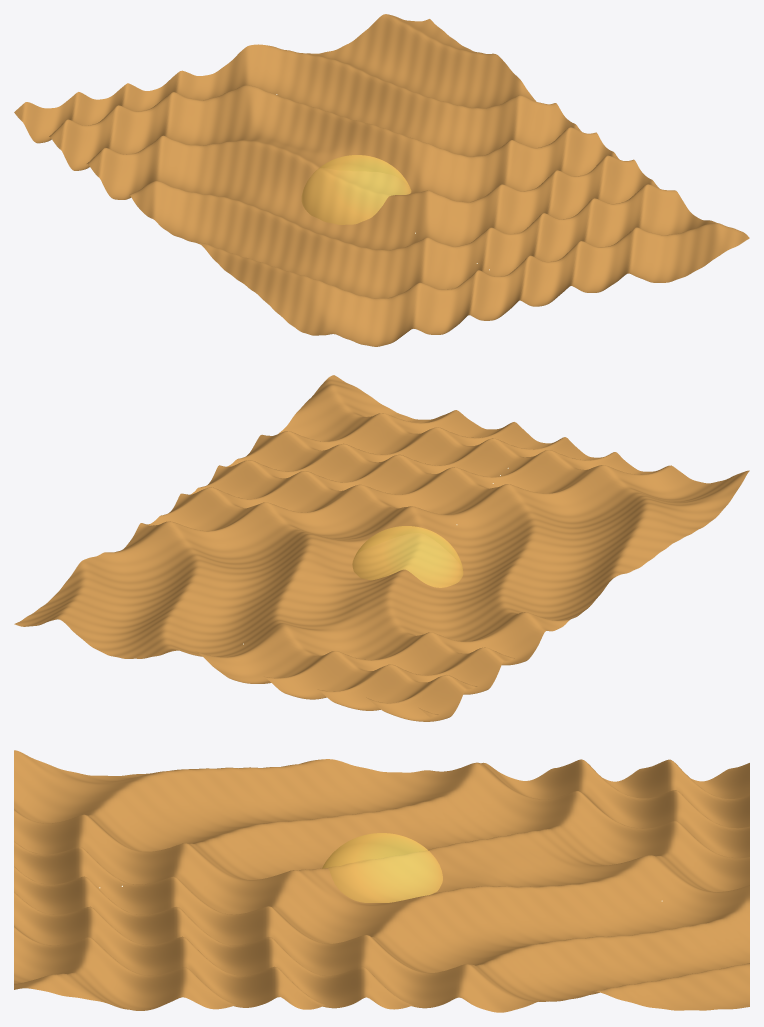
File: houbara_flight_03_karakum_desert.glb
3 views of the same model, one above another, from view 1: azimuth 30°, elevation 25°; view 2: azimuth 150°, elevation 25°; view 3: azimuth 270°, elevation 25° (orthographic). The views are drawn at different scales.
Visible parts, largest first — view 1: Terrain_03_karakum_desert, Golden_Checkpoint_Dome; view 2: Terrain_03_karakum_desert, Golden_Checkpoint_Dome; view 3: Terrain_03_karakum_desert, Golden_Checkpoint_Dome.
Boxes of the visible parts, bbox=[...] form: Terrain_03_karakum_desert: bbox=[14, 14, 749, 346]; Golden_Checkpoint_Dome: bbox=[301, 155, 411, 224]; Terrain_03_karakum_desert: bbox=[14, 375, 749, 721]; Golden_Checkpoint_Dome: bbox=[352, 526, 463, 587]; Terrain_03_karakum_desert: bbox=[14, 750, 749, 1012]; Golden_Checkpoint_Dome: bbox=[322, 833, 442, 902].
Bounding box in the file's own units: 540 × 58.09 × 720.
